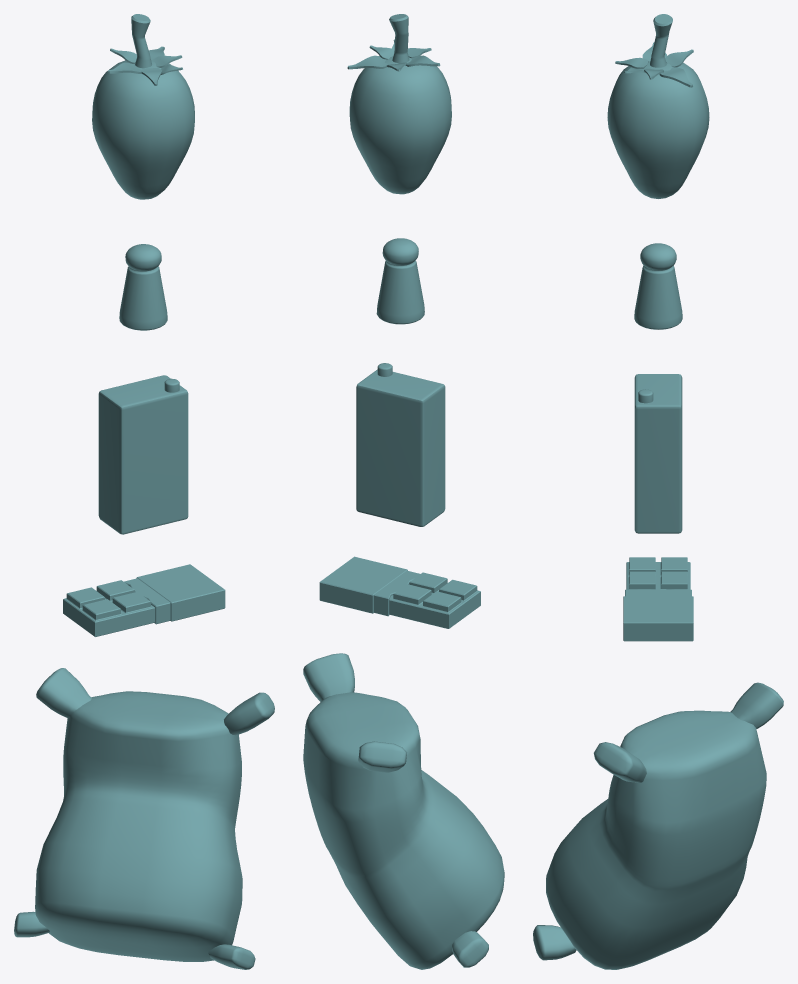
File: SM_INGREDIENTES_CAKE.fbx
3 renders of one model, left to right at view 1: azimuth 30°, elevation 25°; view 2: azimuth 150°, elevation 25°; view 3: azimuth 270°, elevation 25°, orthographic.
Visible parts, largest first — view 1: SM_SACO, SM_MILK, SM_STRAWBERRY, SM_CHOCOLATE, SM_SAL; view 2: SM_SACO, SM_MILK, SM_STRAWBERRY, SM_CHOCOLATE, SM_SAL; view 3: SM_SACO, SM_STRAWBERRY, SM_MILK, SM_CHOCOLATE, SM_SAL.
Boxes of the visible parts, box(x1,y1,x2,y2) form: SM_SACO: box(14, 668, 274, 969); SM_MILK: box(98, 375, 188, 534); SM_STRAWBERRY: box(92, 14, 194, 199); SM_CHOCOLATE: box(63, 564, 225, 636); SM_SAL: box(119, 244, 167, 330); SM_SACO: box(303, 653, 504, 969); SM_MILK: box(356, 363, 445, 526); SM_STRAWBERRY: box(347, 14, 451, 194); SM_CHOCOLATE: box(319, 556, 480, 628); SM_SAL: box(376, 238, 424, 324); SM_SACO: box(533, 682, 783, 969); SM_STRAWBERRY: box(607, 14, 709, 198); SM_MILK: box(634, 374, 682, 533); SM_CHOCOLATE: box(623, 557, 693, 641); SM_SAL: box(634, 243, 682, 329).
Size of the model in its own units: 23.23 by 94.08 by 22.85.
